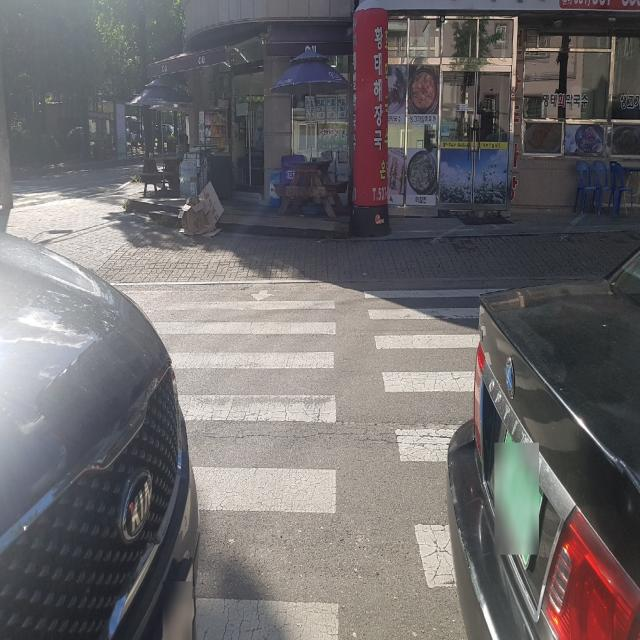횡단보도: (119, 287, 511, 640)
